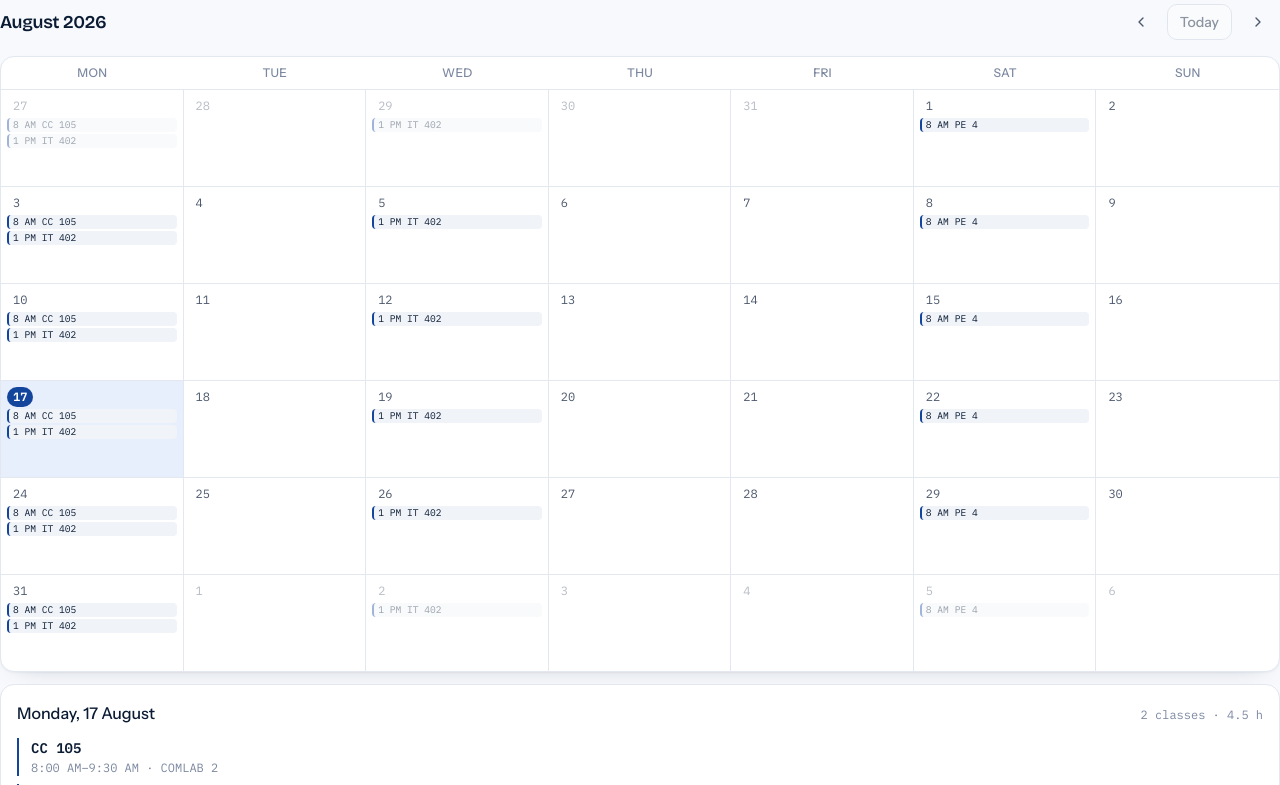
Scenario: moving around › crosses the year boundary
What coordinates should you click on to do the following:
click the button named "Next month"
I would click on:
 (1258, 22)
Its box is [1236,0,1279,44].
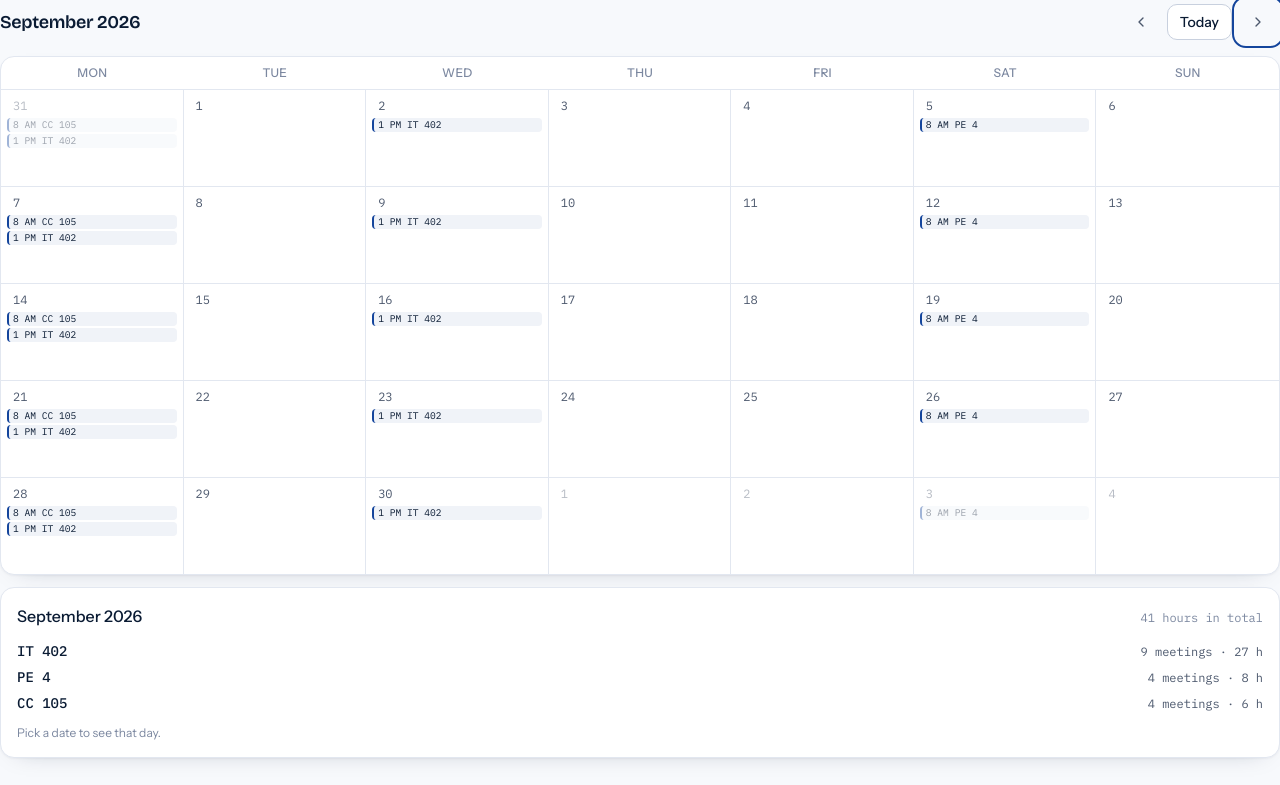
What coordinates should you click on to do the following:
click the button named "Next month"
I would click on:
 (1258, 22)
Its box is [1236,0,1279,44].
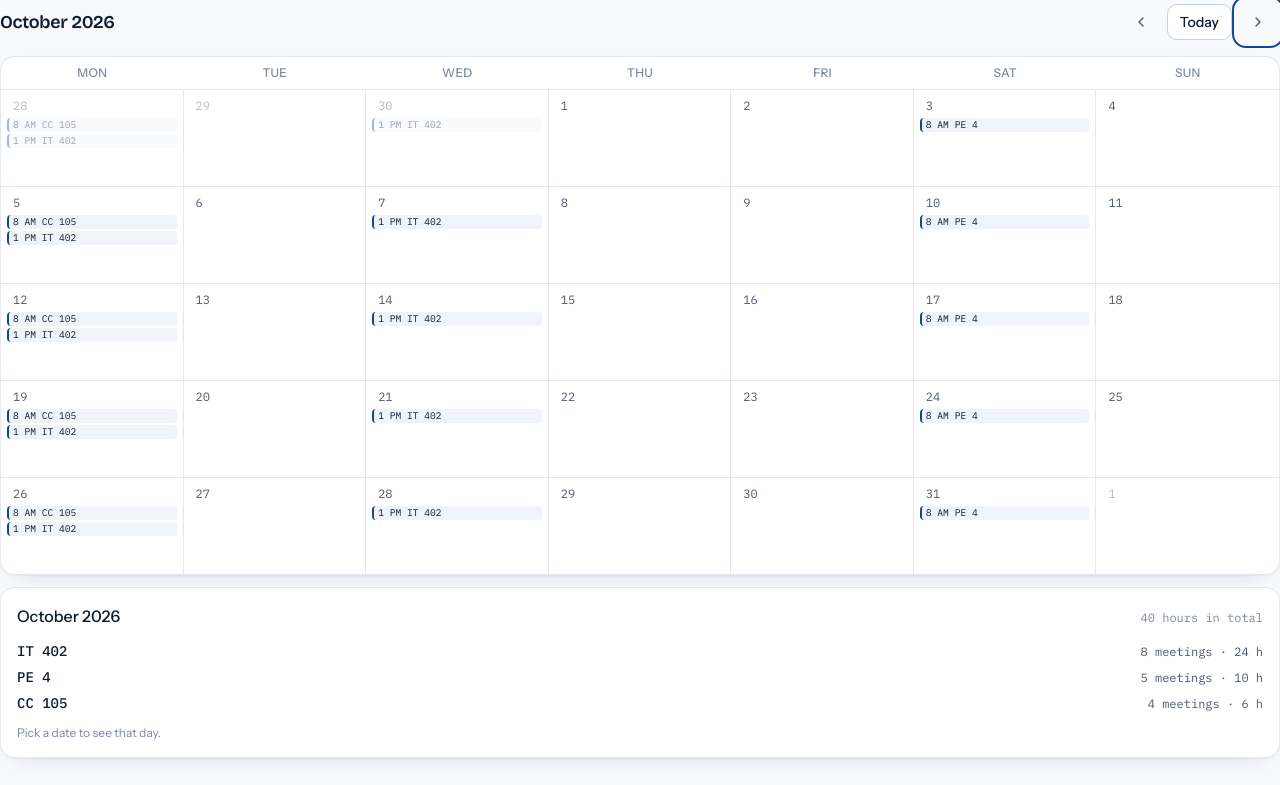
What coordinates should you click on to do the following:
click the button named "Next month"
I would click on:
 (1258, 22)
Its box is [1236,0,1279,44].
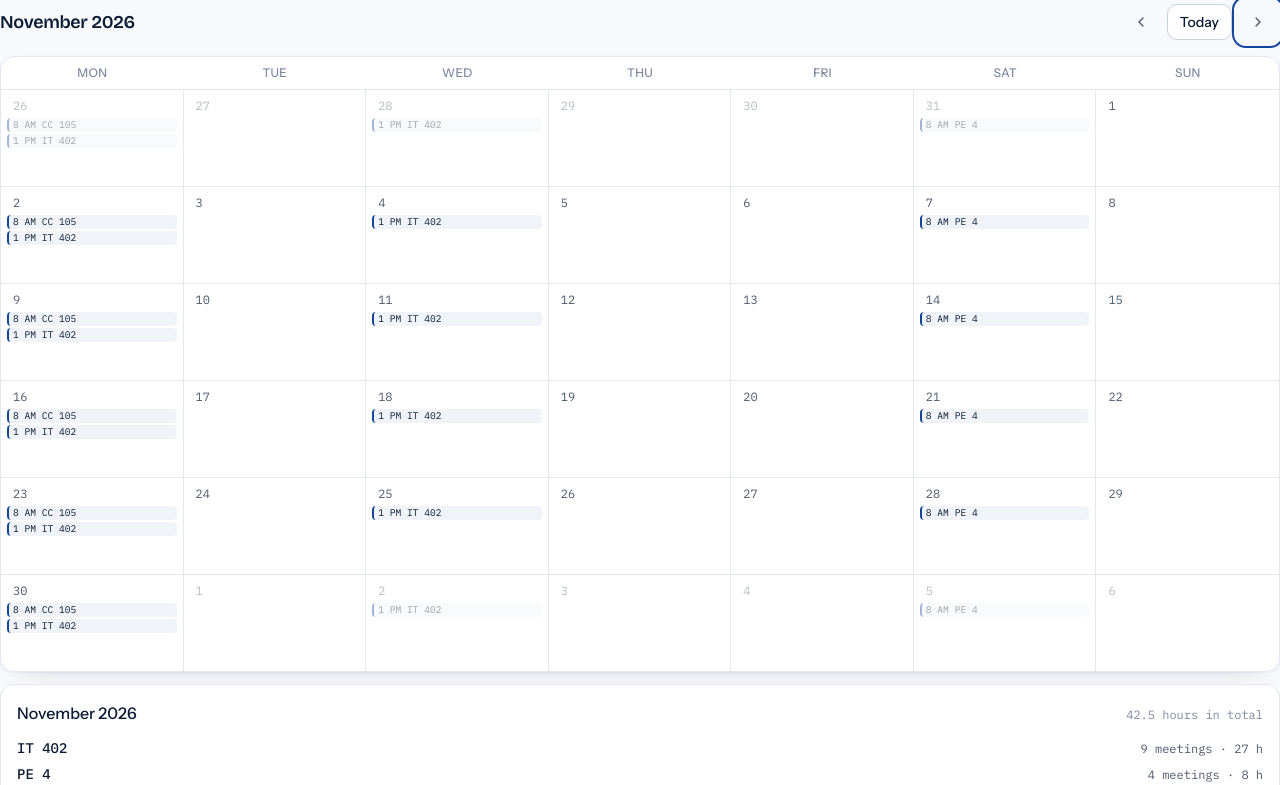
What coordinates should you click on to do the following:
click the button named "Next month"
I would click on:
 (1258, 22)
Its box is [1236,0,1279,44].
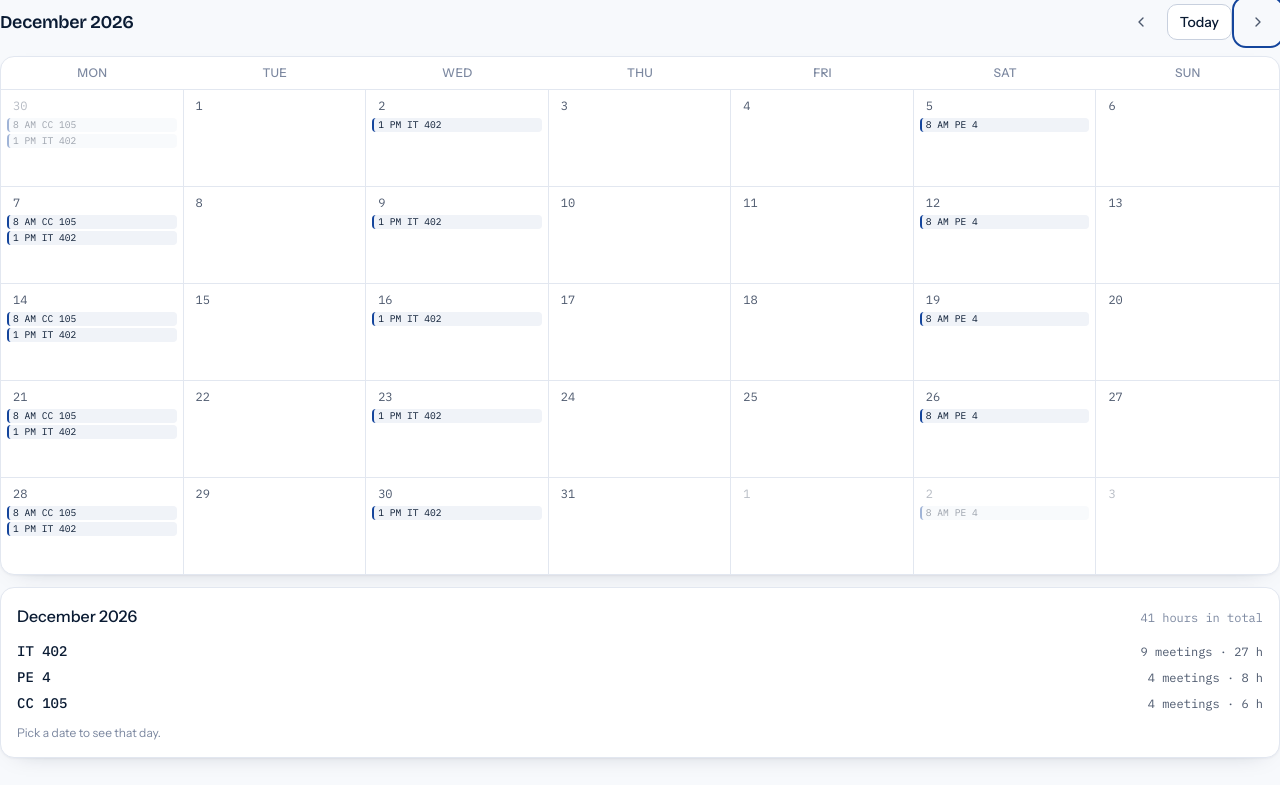
What coordinates should you click on to do the following:
click the button named "Next month"
I would click on:
 (1258, 22)
Its box is [1236,0,1279,44].
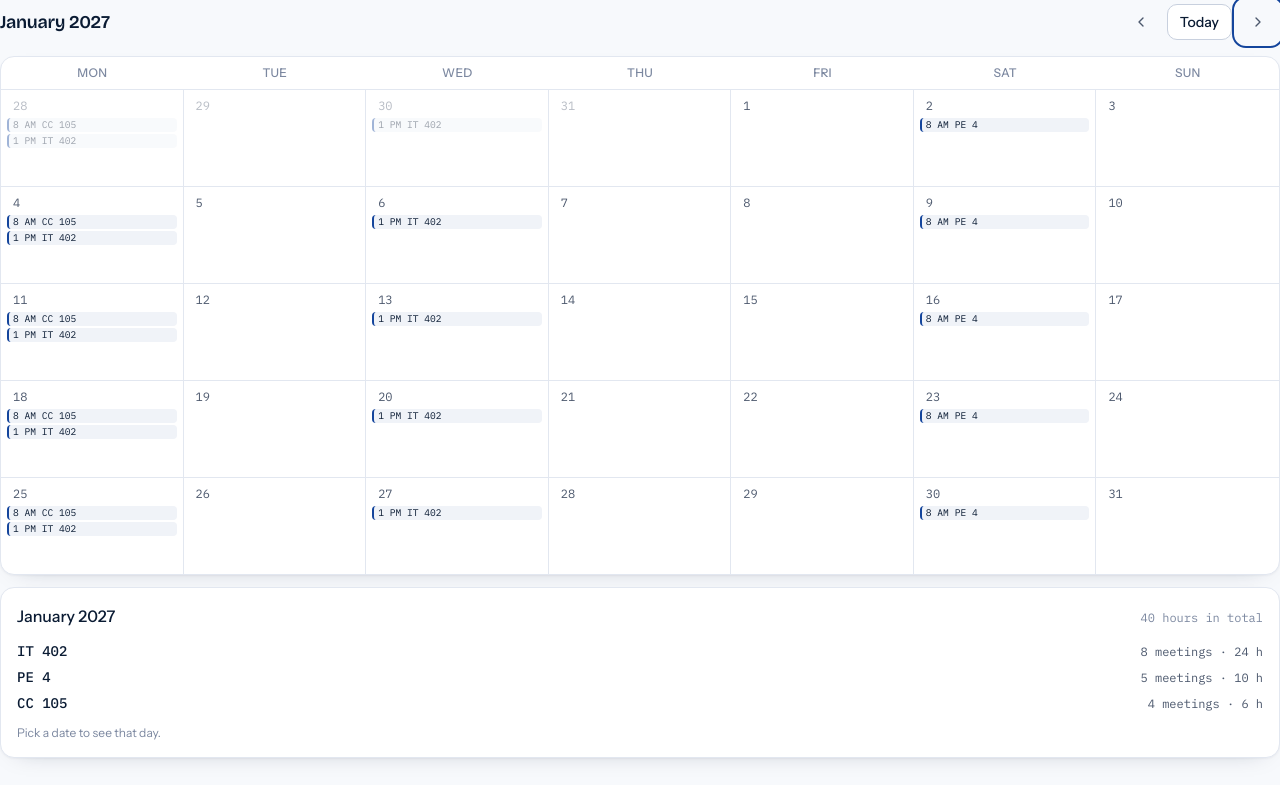
Now the heading "January 2027" is shown, box [0,8,110,36]
